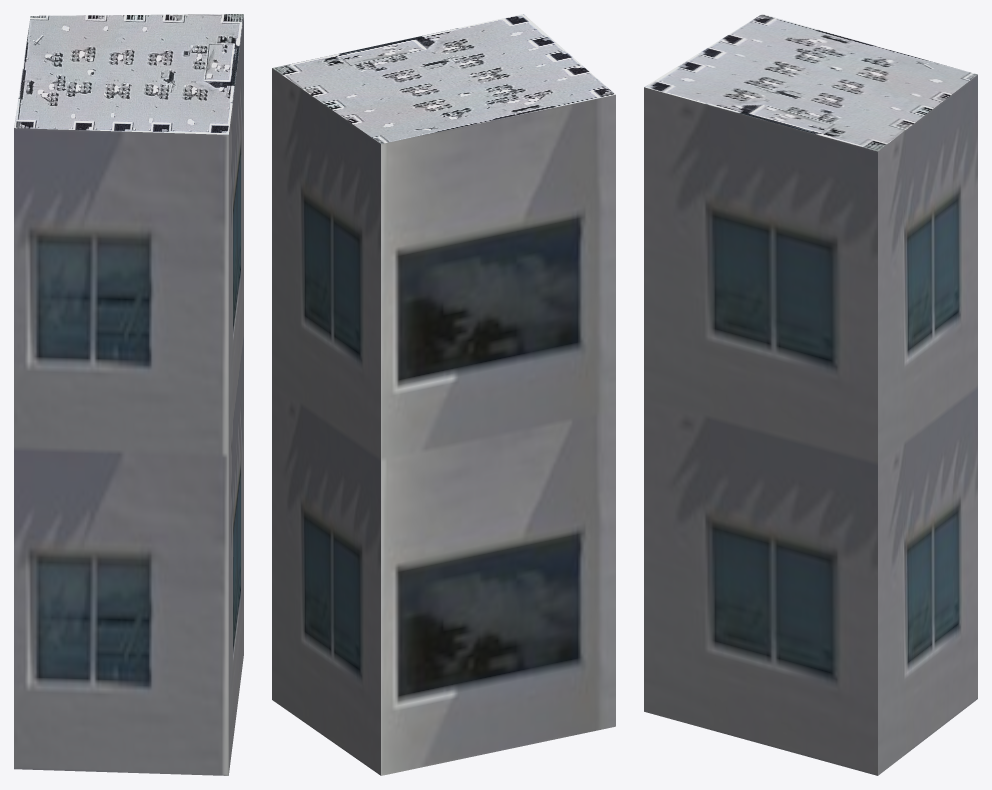
File: ResTex__1233.fbx
3 views of the same model, side by side, from view 1: azimuth 30°, elevation 25°; view 2: azimuth 150°, elevation 25°; view 3: azimuth 270°, elevation 25° (orthographic). The views are drawn at different scales.
Visible parts, largest first — view 1: CityEngineMaterial_10_m, CityEngineMaterial_8_m; view 2: CityEngineMaterial_10_m, CityEngineMaterial_8_m; view 3: CityEngineMaterial_10_m, CityEngineMaterial_8_m.
Part boxes in pixels (x1,y1,x2,y2): CityEngineMaterial_10_m: [14, 15, 243, 775]; CityEngineMaterial_8_m: [14, 14, 243, 134]; CityEngineMaterial_10_m: [272, 68, 615, 775]; CityEngineMaterial_8_m: [272, 14, 615, 143]; CityEngineMaterial_10_m: [644, 75, 977, 775]; CityEngineMaterial_8_m: [644, 14, 977, 151].
Bounding box in the file's own units: 2.83 × 6 × 2.91.
2 materials, 2 textured.
